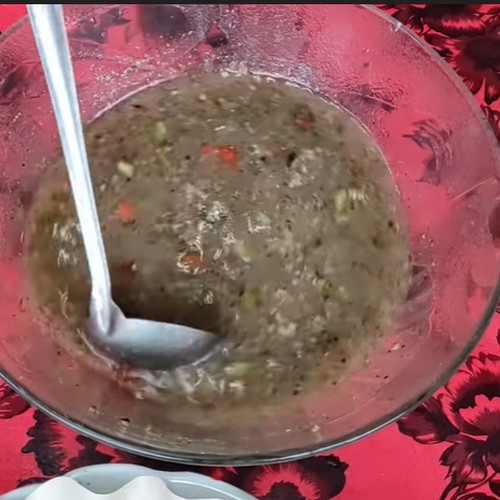komoh: (116, 76, 413, 309)
